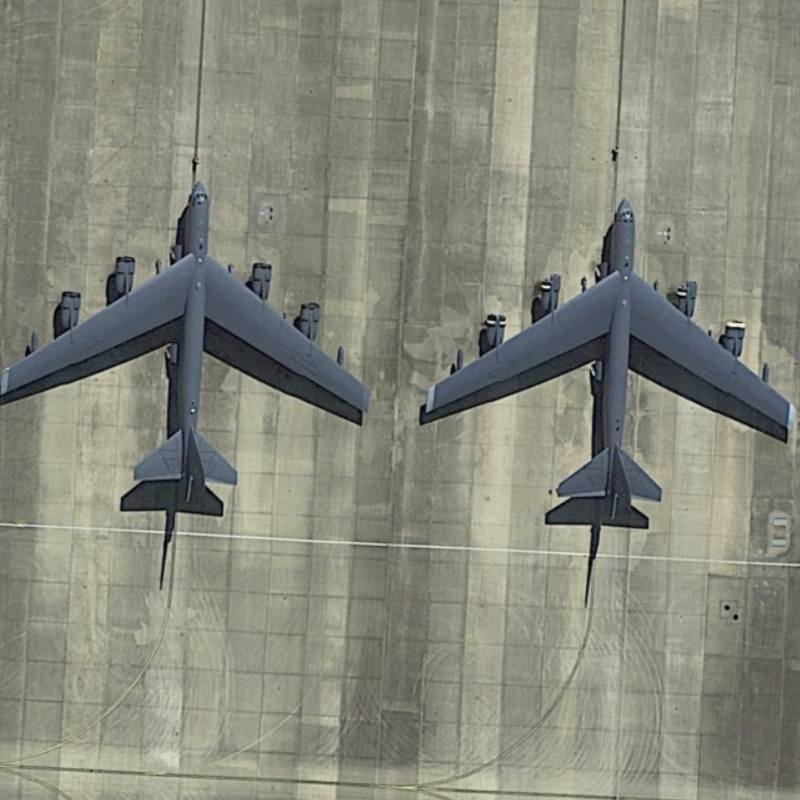A8: (423, 185, 798, 508), (2, 168, 377, 489)
